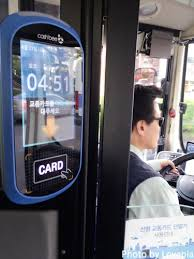terminal: (1, 11, 89, 207)
